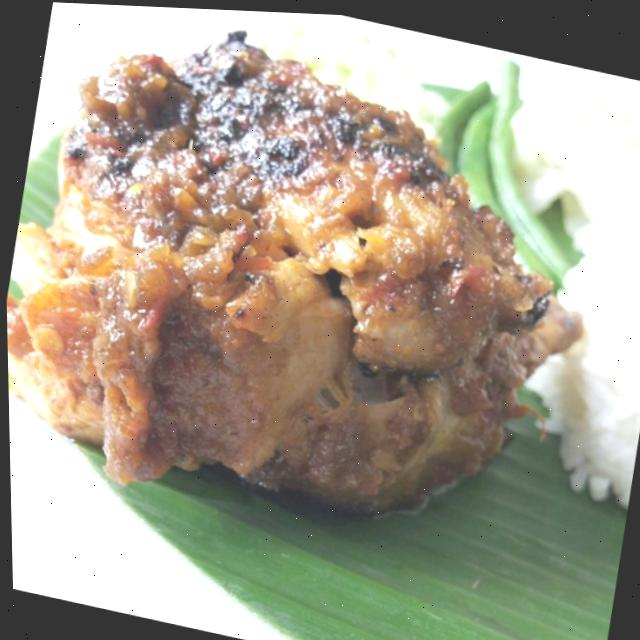鸡肉料理 含炸鸡: (0, 0, 623, 593)
